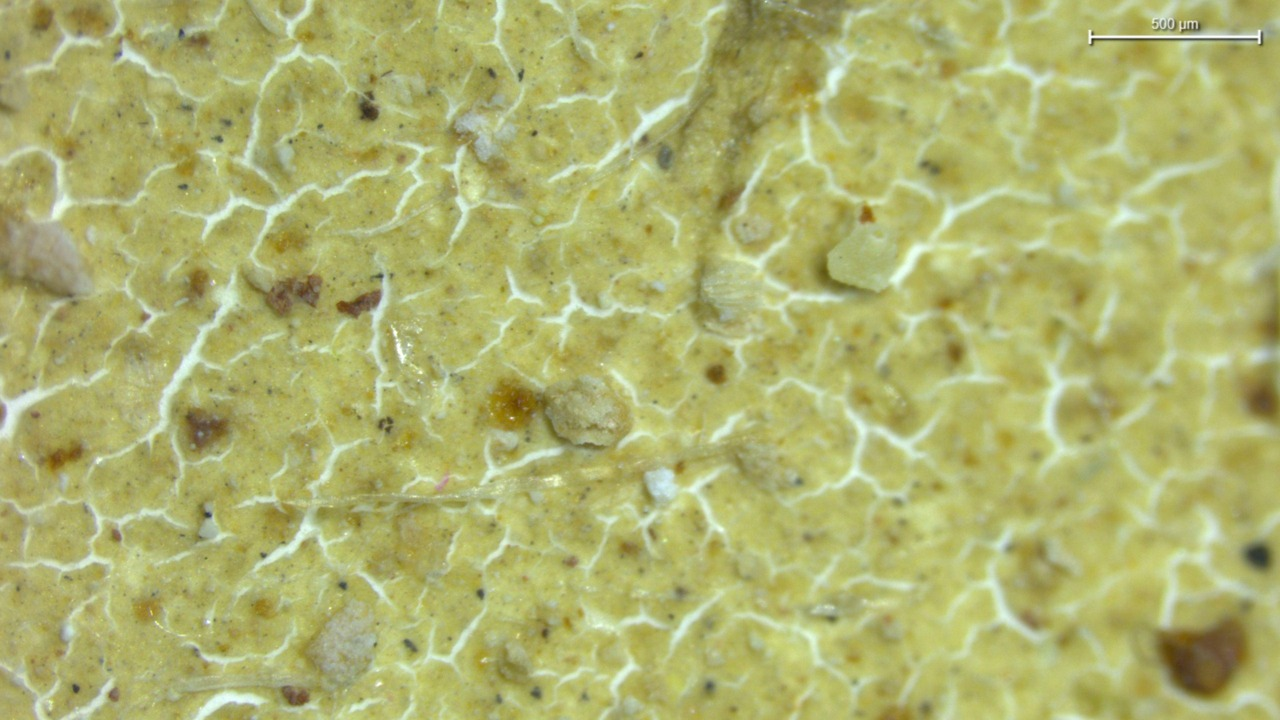microplastic_fragment: (544, 375, 627, 446), (644, 467, 678, 505)
